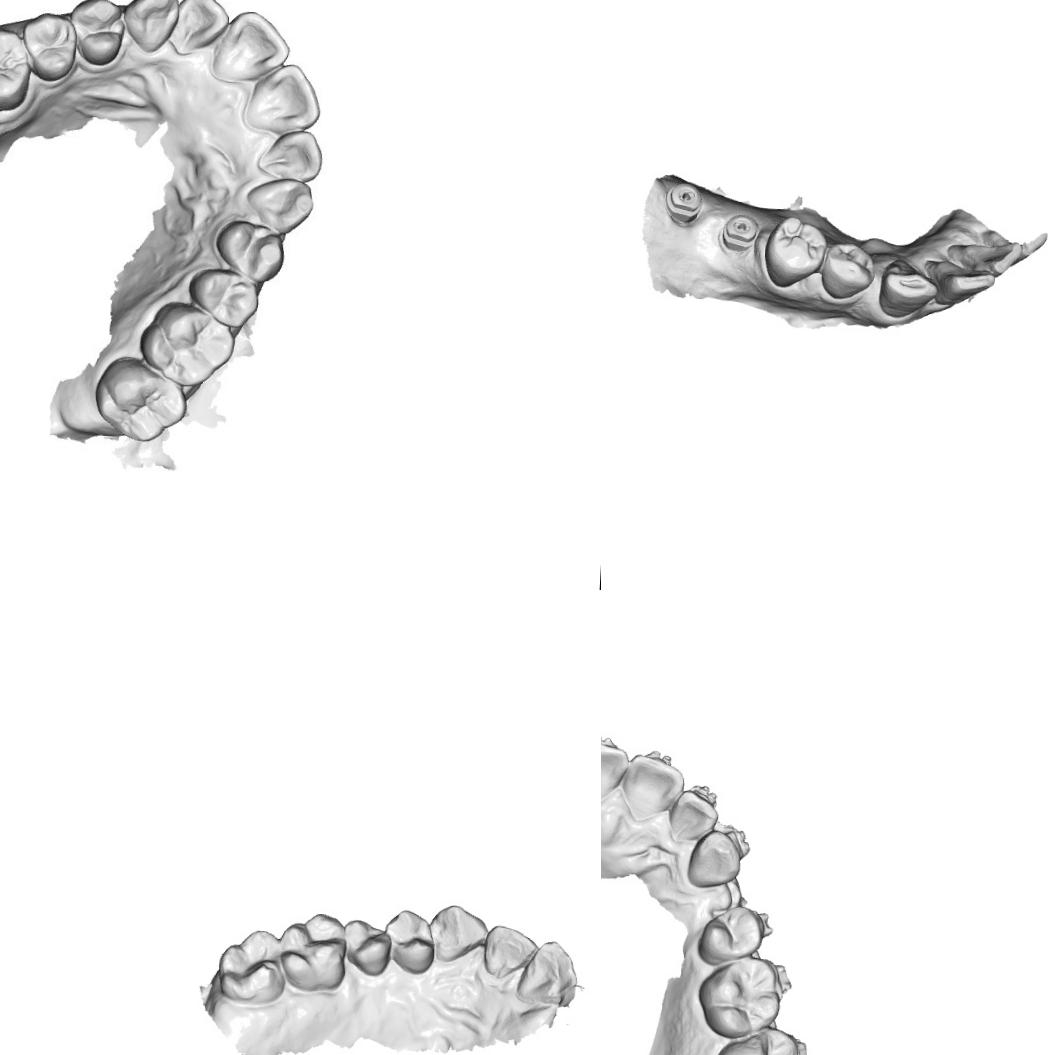canine: (426, 902, 492, 967), (878, 256, 939, 322), (684, 827, 742, 890), (244, 180, 314, 230), (120, 0, 179, 54)
implant_minus: (662, 178, 704, 227), (717, 210, 761, 254)
incisor: (213, 13, 287, 80), (248, 66, 321, 133), (512, 936, 580, 1007), (619, 752, 686, 822), (922, 255, 996, 308), (481, 923, 541, 981), (667, 782, 719, 846), (945, 236, 1024, 278), (261, 132, 318, 180), (178, 0, 226, 53), (601, 738, 628, 808)
molar: (694, 950, 788, 1040), (94, 360, 186, 450), (143, 301, 233, 385), (216, 924, 290, 1004), (276, 910, 348, 992), (709, 1023, 802, 1055), (0, 28, 28, 109)
premolar: (761, 213, 827, 290), (693, 901, 766, 970), (212, 218, 286, 285), (21, 12, 80, 83), (381, 907, 437, 976), (69, 0, 126, 66), (818, 239, 876, 302), (195, 270, 255, 328), (340, 916, 394, 976)
